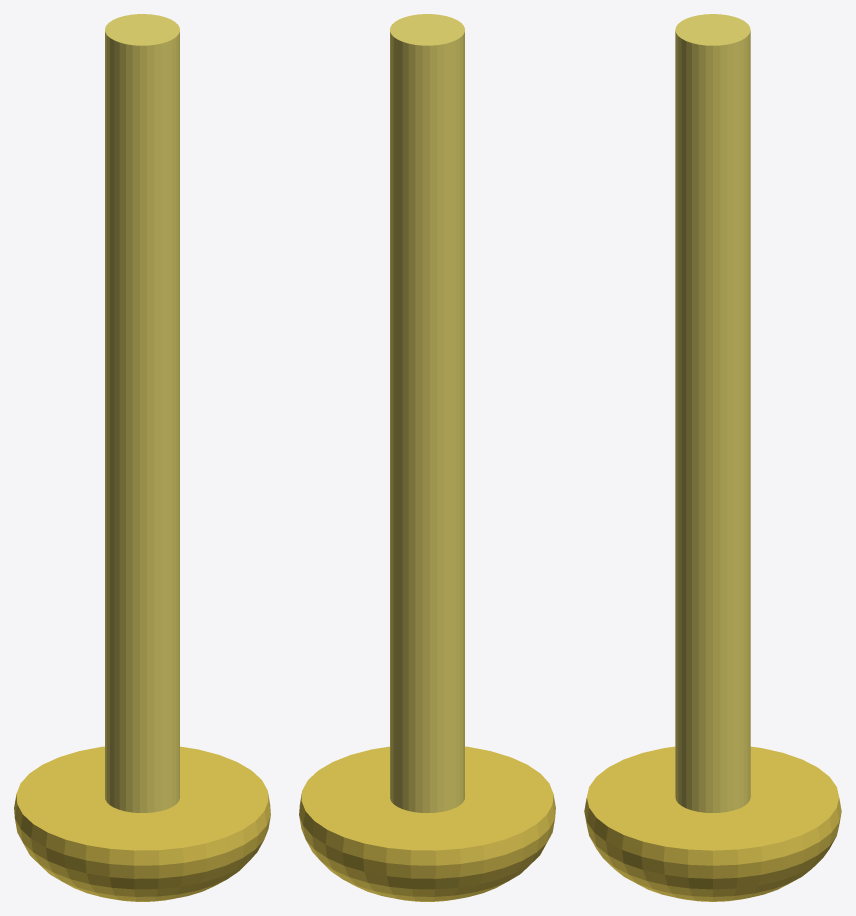
File: kugi.fbx
3 views of the same model, side by side, from view 1: azimuth 30°, elevation 25°; view 2: azimuth 150°, elevation 25°; view 3: azimuth 270°, elevation 25° (orthographic).
Parts seen in each view (by area): view 1: Cylinder, Sphere; view 2: Cylinder, Sphere; view 3: Cylinder, Sphere.
Part boxes in pixels (bbox=[...]): Cylinder: bbox=[105, 14, 179, 812]; Sphere: bbox=[14, 746, 270, 901]; Cylinder: bbox=[390, 14, 464, 812]; Sphere: bbox=[299, 746, 555, 901]; Cylinder: bbox=[675, 14, 750, 812]; Sphere: bbox=[584, 746, 841, 901].
Size of the model in its own units: 93.26 by 341 by 93.26.
